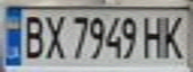4: (103, 12, 124, 61)
7: (66, 11, 90, 61)
9: (118, 12, 142, 60), (87, 12, 106, 61)
B: (18, 11, 48, 61)
H: (139, 11, 169, 60)
K: (157, 11, 190, 60)
X: (39, 11, 69, 61)
